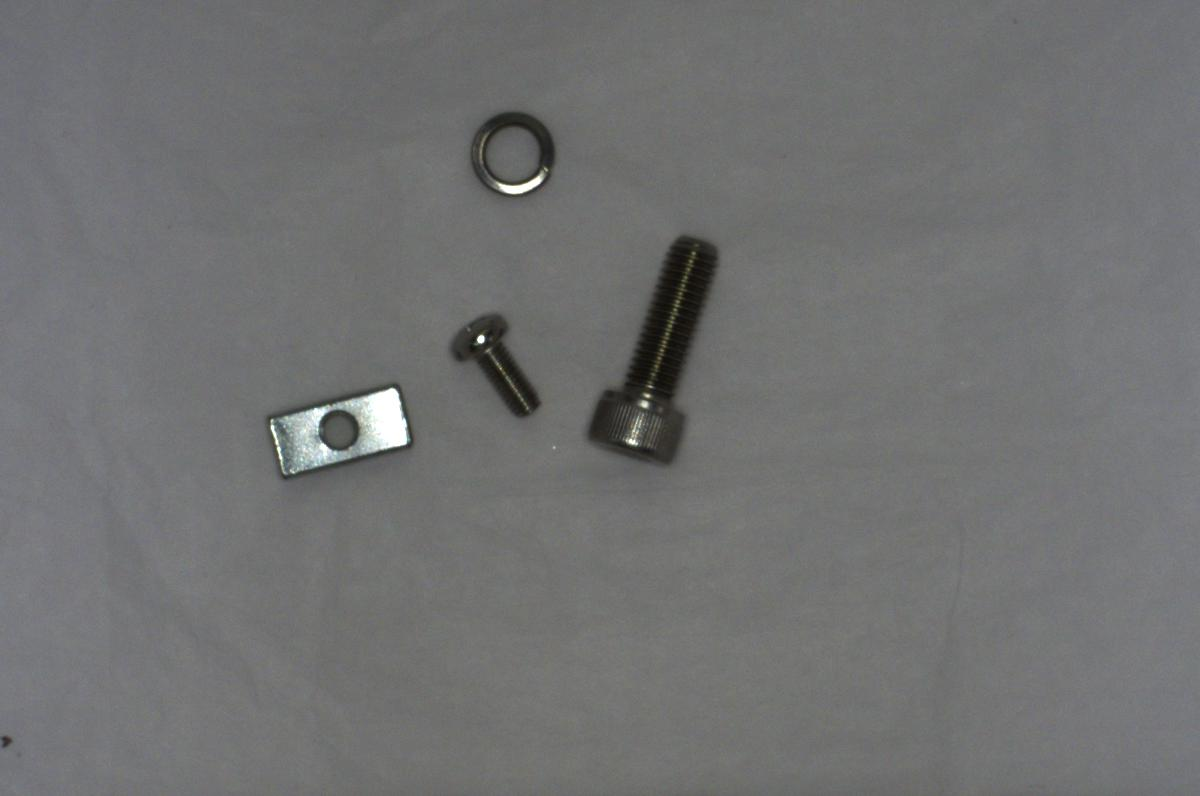Hexagon screw: (578, 230, 715, 468)
Rectangular nut: (264, 379, 414, 482)
Round head screw: (440, 305, 545, 420)
Spring washer: (460, 99, 558, 202)
